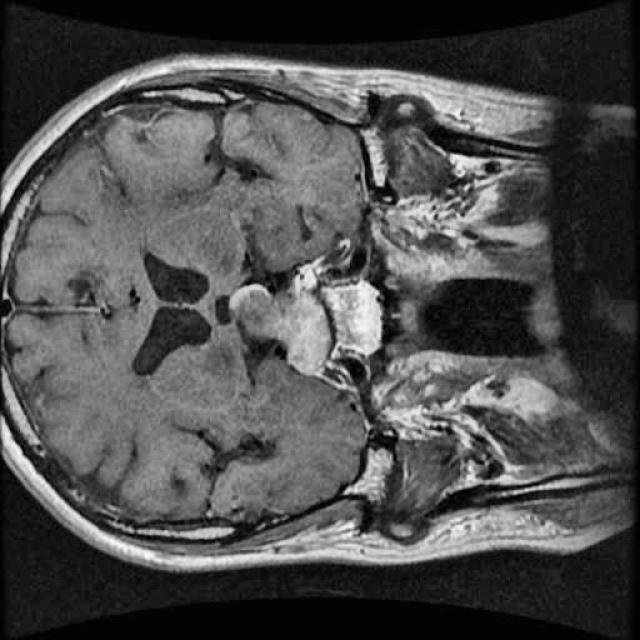Tumor: (221, 265, 345, 386)
